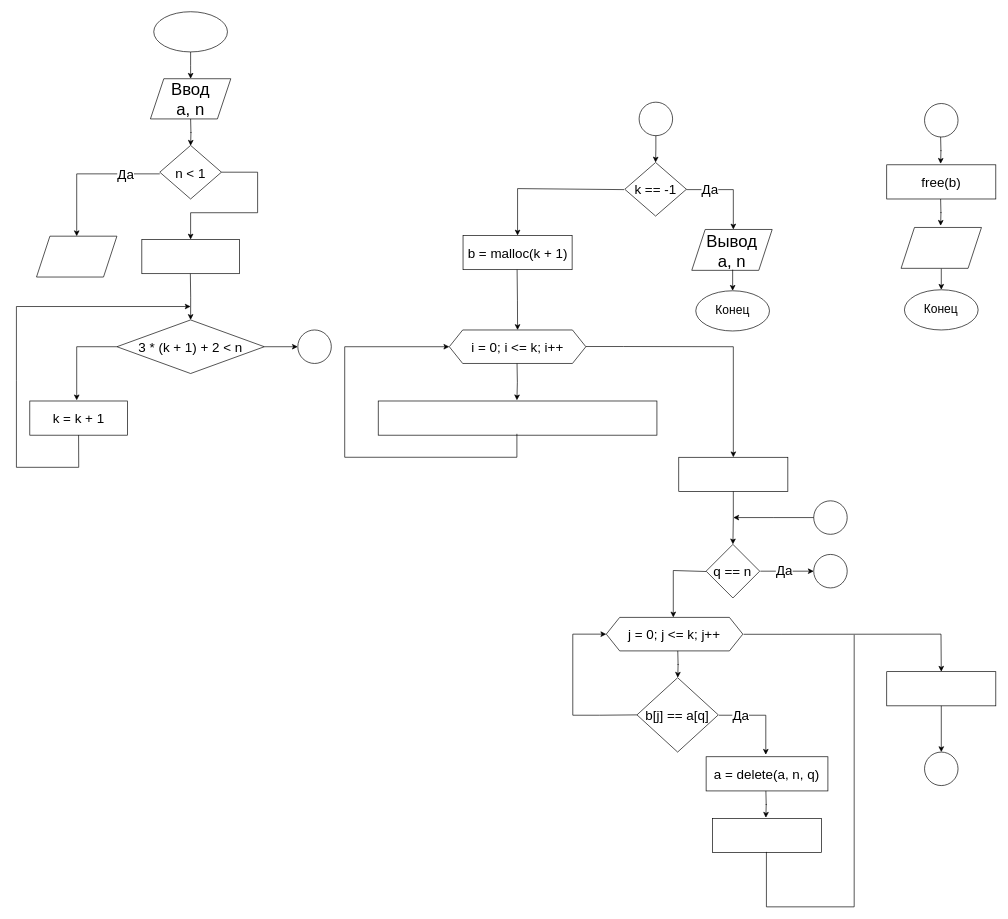
Some shapes in this 1008 by 919 pixel diagram are drawn without their labels. Each missing label, with the centre of its shape:
a, n: point (940, 247)
b[i] = a[3 * i] + a[3 * i + 1] + a[3 * i + 2]: point (517, 417)
formB: point (190, 31)
k = -1: point (190, 256)
q = 0: point (733, 474)
q = q + 1: point (941, 688)
q = q - 1: point (767, 835)
Выход: point (76, 256)
